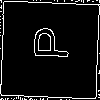P: (25, 25, 69, 60)
